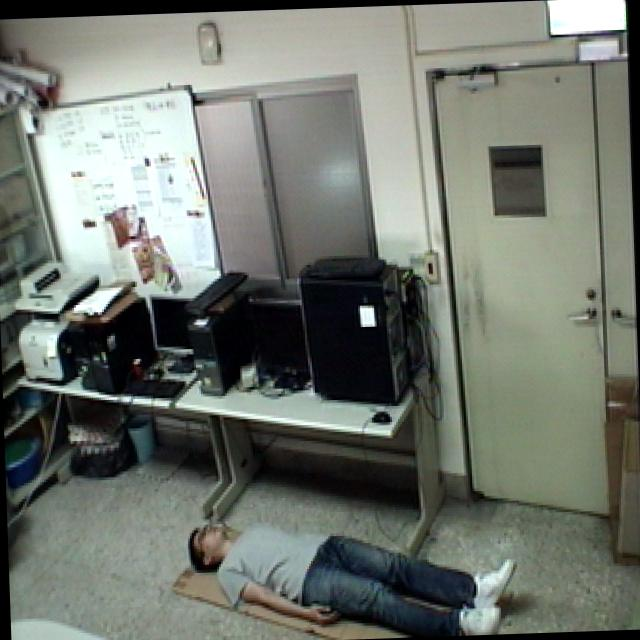lie: (177, 491, 524, 640)
